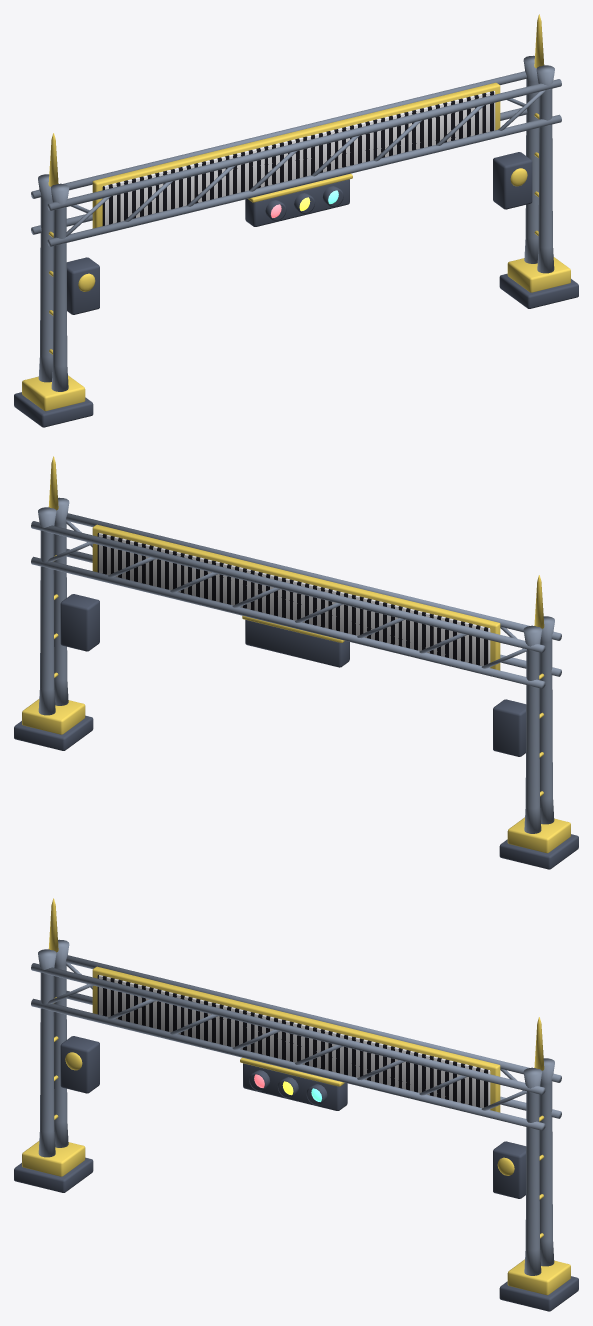
File: start_gantry.glb
The picture shows the model from 3 angles, top to bottom: view 1: azimuth 30°, elevation 25°; view 2: azimuth 150°, elevation 25°; view 3: azimuth 330°, elevation 25°; orthographic projection.
Parts seen in each view (by area): view 1: StartBanner, TrussRail_TopF, TrussRail_BotF, BannerFrame, PillarCol_Left_+0.4, PillarCol_Right_+0.4, PillarCol_Left_-0.4, TrussRail_TopB, PillarCol_Right_-0.4, SignalBody, SpeakerPod_Right, SpeakerPod_Left (+5 smaller); view 2: StartBanner, TrussRail_TopB, TrussRail_BotB, BannerFrame, PillarCol_Right_-0.4, PillarCol_Left_-0.4, SignalBody, PillarCol_Left_+0.4, TrussRail_TopF, PillarCol_Right_+0.4, SpeakerPod_Right, SpeakerPod_Left (+4 smaller); view 3: StartBanner, TrussRail_TopF, TrussRail_BotF, BannerFrame, PillarCol_Left_+0.4, PillarCol_Right_+0.4, PillarCol_Right_-0.4, TrussRail_TopB, PillarCol_Left_-0.4, SignalBody, SpeakerPod_Left, SpeakerPod_Right (+5 smaller).
Part boxes in pixels (x1,y1,x2,y2): StartBanner: (102, 91, 495, 225); TrussRail_TopF: (47, 79, 561, 210); TrussRail_BotF: (47, 114, 561, 246); BannerFrame: (92, 82, 500, 228); PillarCol_Left_+0.4: (51, 183, 69, 391); PillarCol_Right_+0.4: (536, 65, 554, 273); PillarCol_Left_-0.4: (38, 174, 53, 382); TrussRail_TopB: (31, 71, 526, 198); PillarCol_Right_-0.4: (523, 55, 539, 263); SignalBody: (245, 179, 349, 226); SpeakerPod_Right: (493, 152, 532, 209); SpeakerPod_Left: (66, 257, 99, 314); StartBanner: (97, 533, 490, 667); TrussRail_TopB: (31, 521, 545, 652); TrussRail_BotB: (31, 556, 545, 688); BannerFrame: (92, 524, 500, 670); PillarCol_Right_-0.4: (38, 507, 56, 715); PillarCol_Left_-0.4: (523, 625, 541, 833); SignalBody: (245, 620, 349, 667); PillarCol_Left_+0.4: (539, 616, 554, 824); TrussRail_TopF: (66, 513, 561, 640); PillarCol_Right_+0.4: (53, 497, 69, 705); SpeakerPod_Right: (60, 594, 99, 651); SpeakerPod_Left: (493, 699, 526, 756); StartBanner: (97, 975, 490, 1109); TrussRail_TopF: (31, 963, 545, 1094); TrussRail_BotF: (31, 998, 545, 1130); BannerFrame: (92, 966, 500, 1112); PillarCol_Left_+0.4: (38, 949, 56, 1157); PillarCol_Right_+0.4: (523, 1067, 541, 1275); PillarCol_Right_-0.4: (539, 1058, 554, 1266); TrussRail_TopB: (66, 955, 561, 1082); PillarCol_Left_-0.4: (53, 939, 69, 1147); SignalBody: (243, 1063, 347, 1110); SpeakerPod_Left: (60, 1036, 99, 1093); SpeakerPod_Right: (493, 1141, 526, 1198).
Bounding box in the file's own units: 17.25 × 8.55 × 1.65.
Materials: 7 (1 with a texture image).
